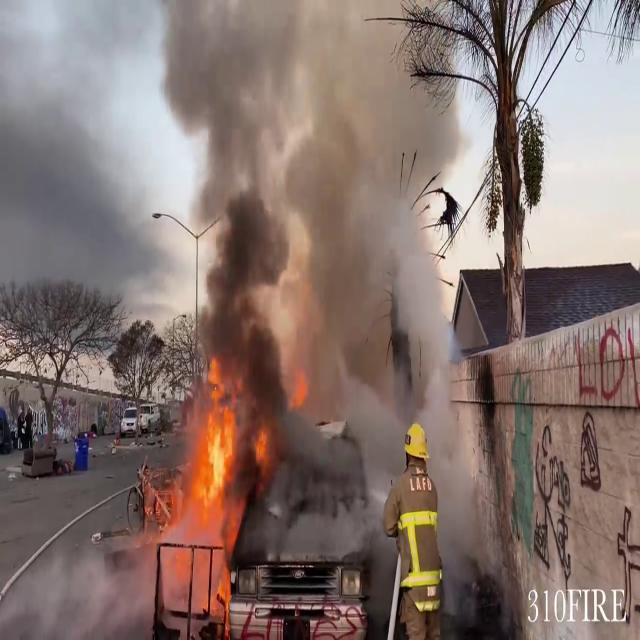Fire: (178, 368, 256, 589)
Smoke: (158, 0, 490, 558)
